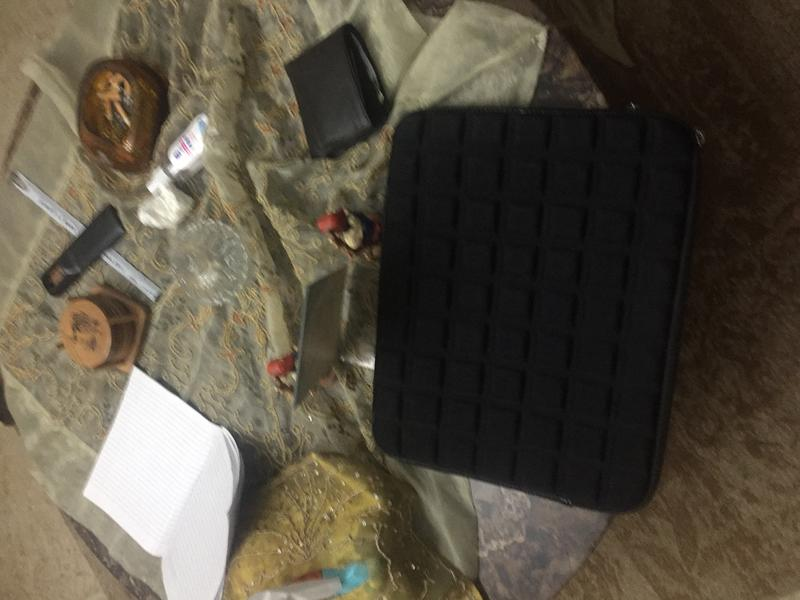cover: (369, 96, 707, 522)
